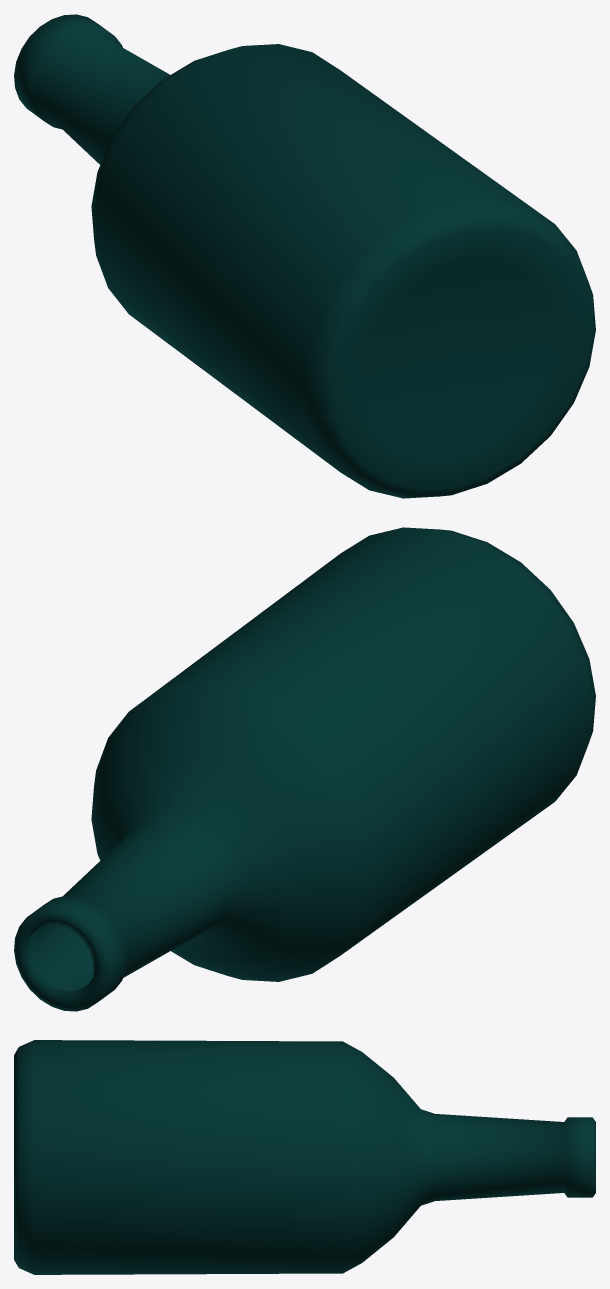
Rendered from Botella02.fbx.
3 views of the same model, one above another, from view 1: azimuth 30°, elevation 25°; view 2: azimuth 150°, elevation 25°; view 3: azimuth 270°, elevation 25° (orthographic). The views are drawn at different scales.
Parts seen in each view (by area): view 1: Botella_Cerveza.004; view 2: Botella_Cerveza.004; view 3: Botella_Cerveza.004.
Boxes of the visible parts, x1,y1,x2,y2 form: Botella_Cerveza.004: (14, 14, 595, 498); Botella_Cerveza.004: (14, 527, 595, 1011); Botella_Cerveza.004: (14, 1040, 595, 1274).
Bounding box in the file's own units: 1260 × 1220 × 3044.
